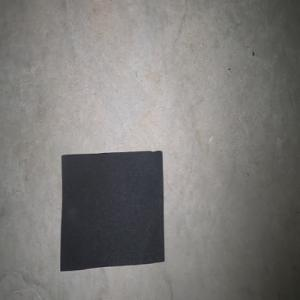PaintChip: (59, 150, 164, 271)
